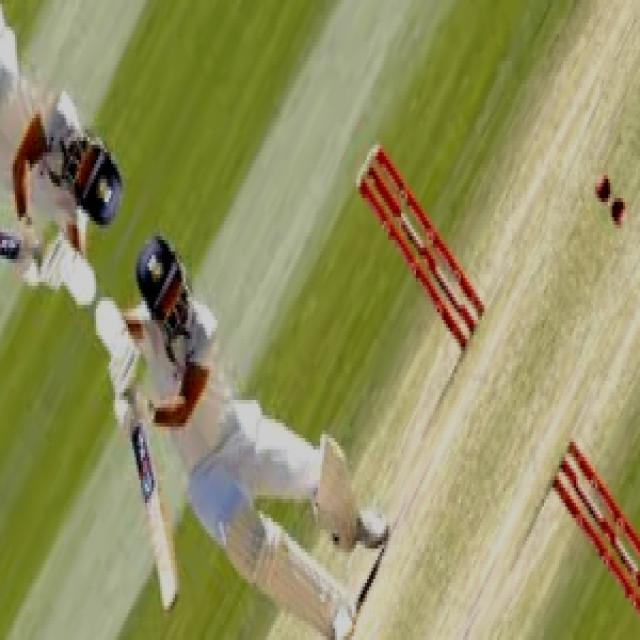toe: (155, 560, 181, 618)
